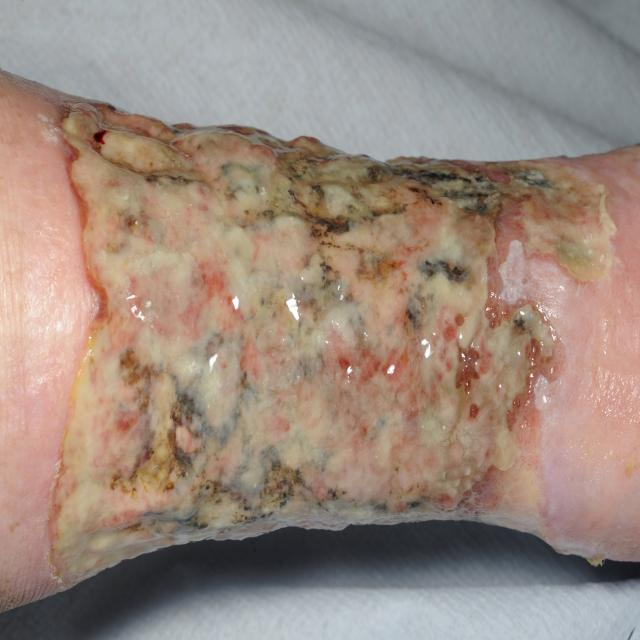wound: (42, 92, 636, 588)
